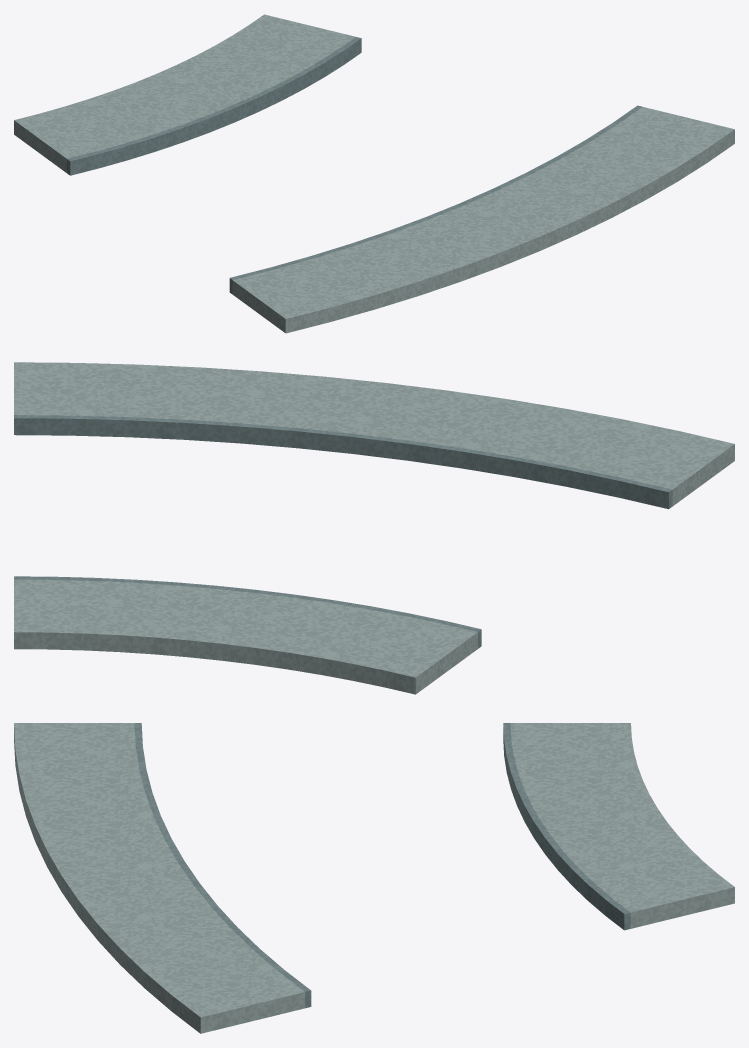
File: sidewalk.gltf
The picture shows the model from 3 angles, top to bottom: view 1: azimuth 30°, elevation 25°; view 2: azimuth 150°, elevation 25°; view 3: azimuth 270°, elevation 25°; orthographic projection. The views are drawn at different scales.
Visible parts, largest first — view 1: RoadPlan_WalkCurve_2L_A30_R18_Paving_-1, RoadPlan_WalkCurve_2L_A30_R18_Paving_1, RoadPlan_WalkCurve_2L_A30_R18_Curb_1, RoadPlan_WalkCurve_2L_A30_R18_Curb_-1; view 2: RoadPlan_WalkCurve_2L_A30_R18_Paving_-1, RoadPlan_WalkCurve_2L_A30_R18_Paving_1, RoadPlan_WalkCurve_2L_A30_R18_Curb_-1, RoadPlan_WalkCurve_2L_A30_R18_Curb_1; view 3: RoadPlan_WalkCurve_2L_A30_R18_Paving_-1, RoadPlan_WalkCurve_2L_A30_R18_Paving_1, RoadPlan_WalkCurve_2L_A30_R18_Curb_1, RoadPlan_WalkCurve_2L_A30_R18_Curb_-1.
Part boxes in pixels (box(x1,y1,x2,y2)): RoadPlan_WalkCurve_2L_A30_R18_Paving_-1: box(232, 107, 734, 333); RoadPlan_WalkCurve_2L_A30_R18_Paving_1: box(14, 14, 355, 172); RoadPlan_WalkCurve_2L_A30_R18_Curb_1: box(67, 37, 361, 175); RoadPlan_WalkCurve_2L_A30_R18_Curb_-1: box(229, 105, 642, 294); RoadPlan_WalkCurve_2L_A30_R18_Paving_-1: box(14, 362, 734, 505); RoadPlan_WalkCurve_2L_A30_R18_Paving_1: box(14, 579, 477, 694); RoadPlan_WalkCurve_2L_A30_R18_Curb_-1: box(14, 415, 672, 509); RoadPlan_WalkCurve_2L_A30_R18_Curb_1: box(14, 576, 481, 648); RoadPlan_WalkCurve_2L_A30_R18_Paving_-1: box(14, 723, 304, 1033); RoadPlan_WalkCurve_2L_A30_R18_Paving_1: box(510, 723, 734, 928); RoadPlan_WalkCurve_2L_A30_R18_Curb_1: box(503, 723, 630, 930); RoadPlan_WalkCurve_2L_A30_R18_Curb_-1: box(134, 723, 311, 1008).
Size of the model in its own units: 11.56 by 0.3 by 11.97.
2 materials, 2 textured.
